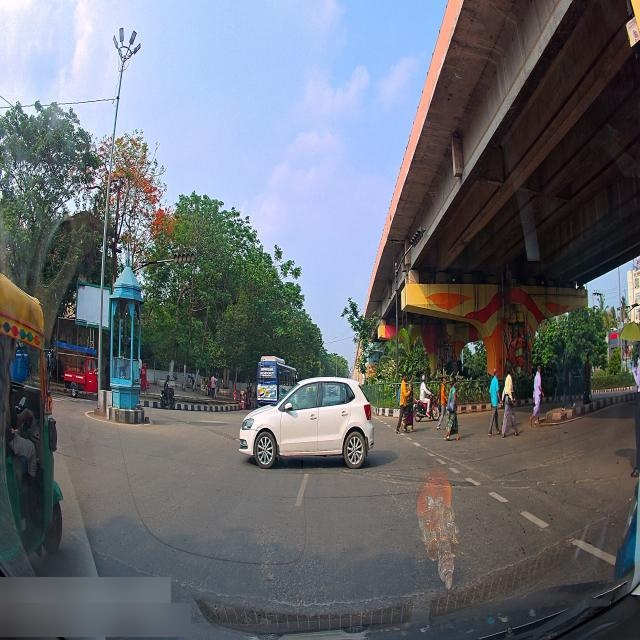pothole: (383, 472, 392, 480), (232, 434, 239, 444)
